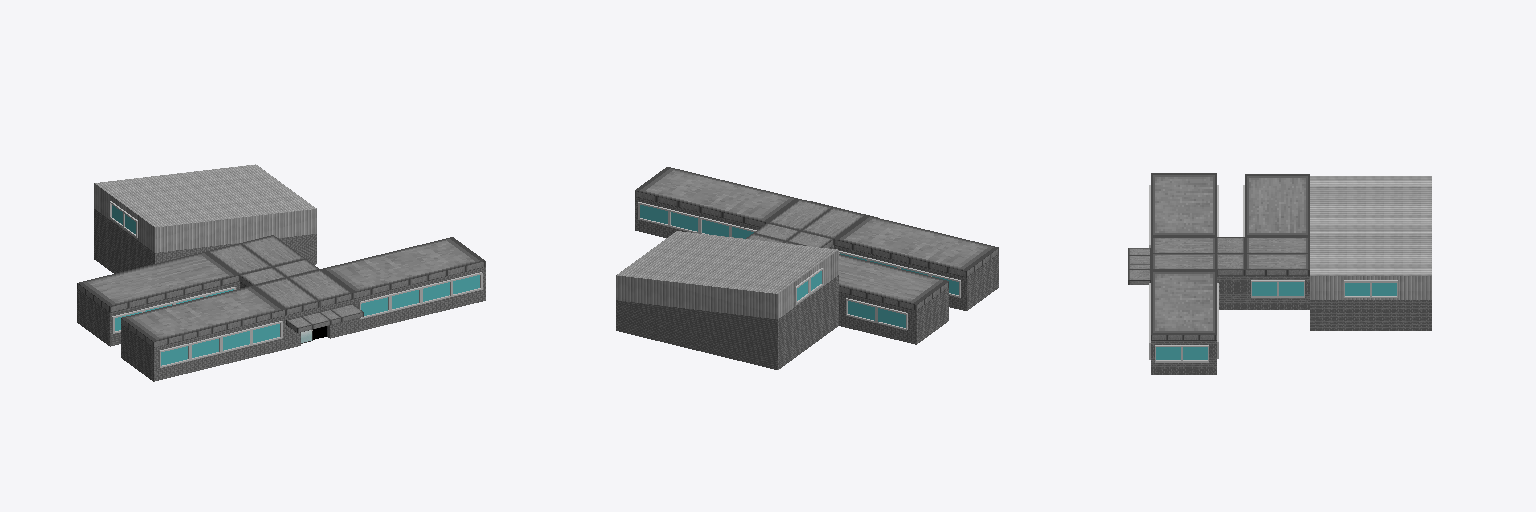
The picture shows the model from 3 angles: view 1: azimuth 30°, elevation 25°; view 2: azimuth 150°, elevation 25°; view 3: azimuth 270°, elevation 25°; orthographic projection.
Visible parts, largest first — view 1: school; view 2: school; view 3: school.
Boxes of the visible parts, x1=… form: school: x1=77, y1=164, x2=485, y2=381; school: x1=616, y1=167, x2=998, y2=369; school: x1=1128, y1=173, x2=1431, y2=374.
Size of the model in its own units: 41.21 by 9.05 by 32.44.
7 materials, 4 textured.